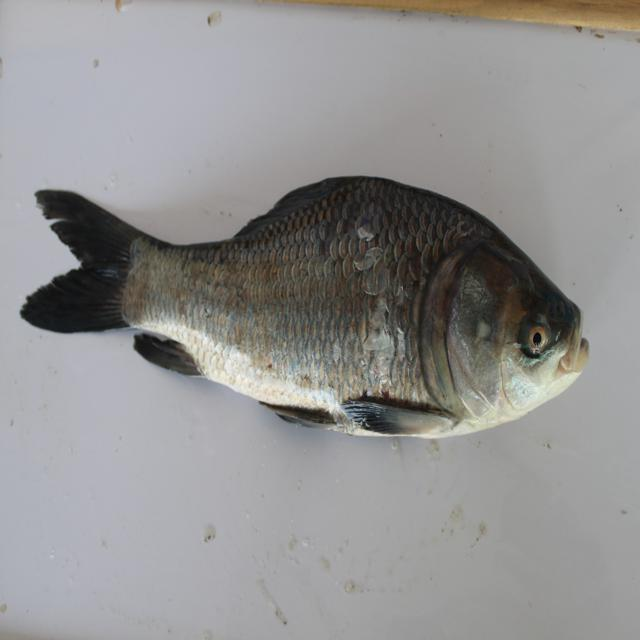Catla: (26, 163, 606, 458)
